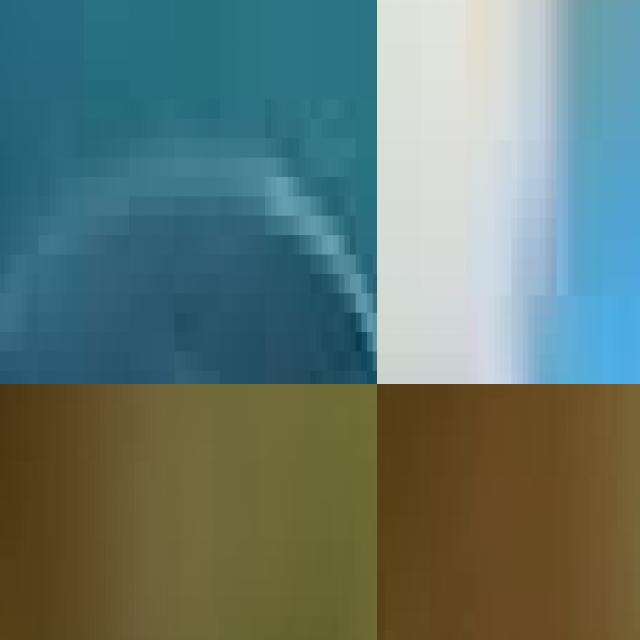fish: (0, 2, 377, 384), (377, 0, 640, 384)
